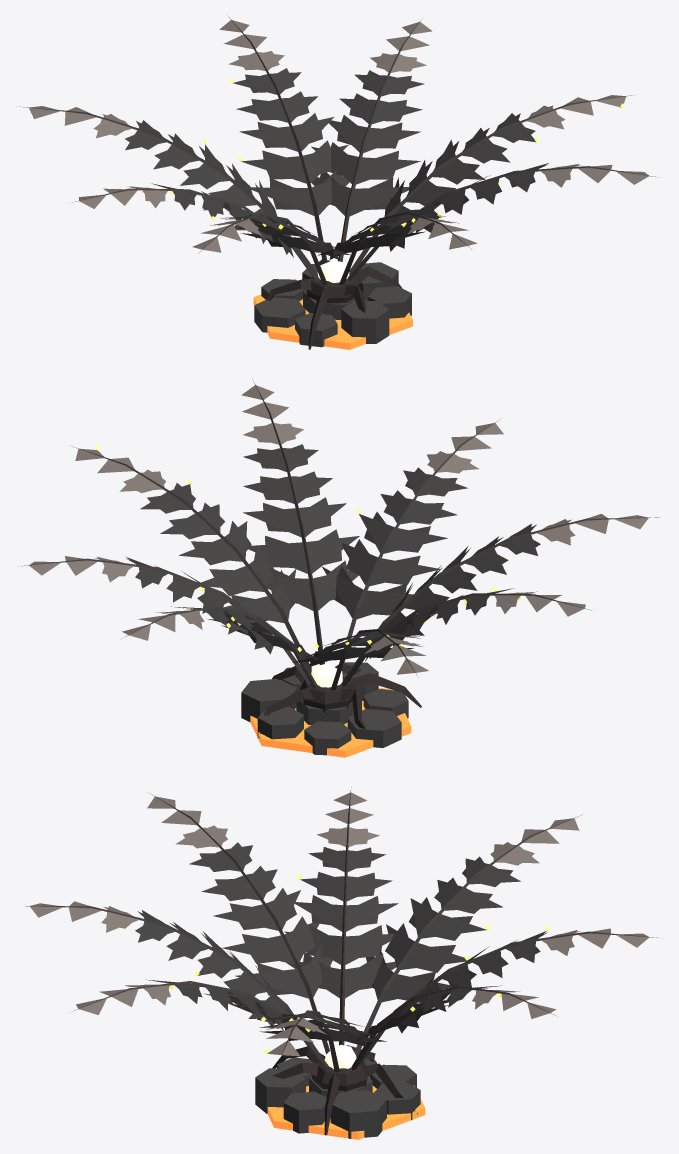
The model's file is plant_t3_e.fbx.
3 renders of one model, top to bottom at view 1: azimuth 30°, elevation 25°; view 2: azimuth 150°, elevation 25°; view 3: azimuth 270°, elevation 25°, orthographic. The views are drawn at different scales.
Visible parts, largest first — view 1: plant_t3_e; view 2: plant_t3_e; view 3: plant_t3_e.
Part boxes in pixels (x1,y1,x2,y2): plant_t3_e: (20, 17, 659, 349); plant_t3_e: (21, 379, 659, 757); plant_t3_e: (25, 787, 661, 1139).
Size of the model in its own units: 102 by 33.28 by 101.
